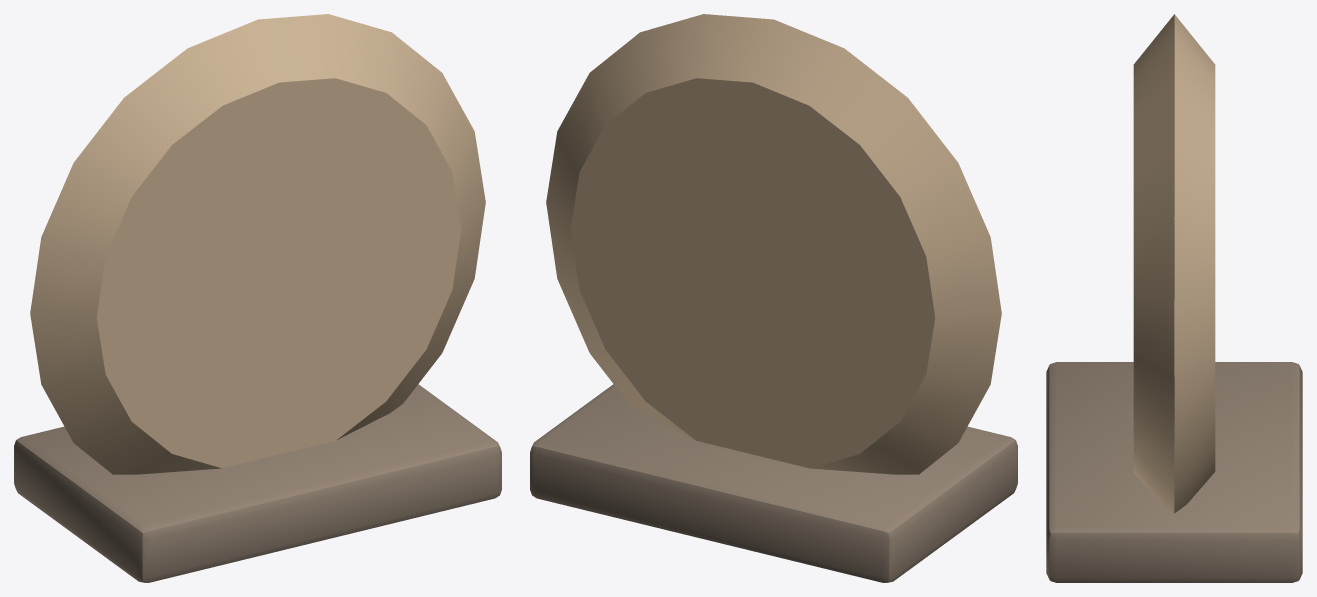
Rendered from quest_lens.gltf.
The picture shows the model from 3 angles, left to right: view 1: azimuth 30°, elevation 25°; view 2: azimuth 150°, elevation 25°; view 3: azimuth 270°, elevation 25°; orthographic projection. The views are drawn at different scales.
Parts seen in each view (by area): view 1: Body; view 2: Body; view 3: Body.
Boxes of the visible parts, x1,y1,x2,y2 form: Body: (14,14,501,582); Body: (530,14,1017,582); Body: (1046,14,1302,582).
Bounding box in the file's own units: 0.5 × 0.5 × 0.25.
